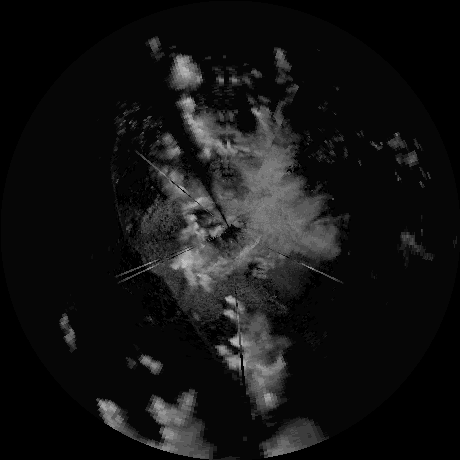frontgust: (111, 120, 135, 249)
